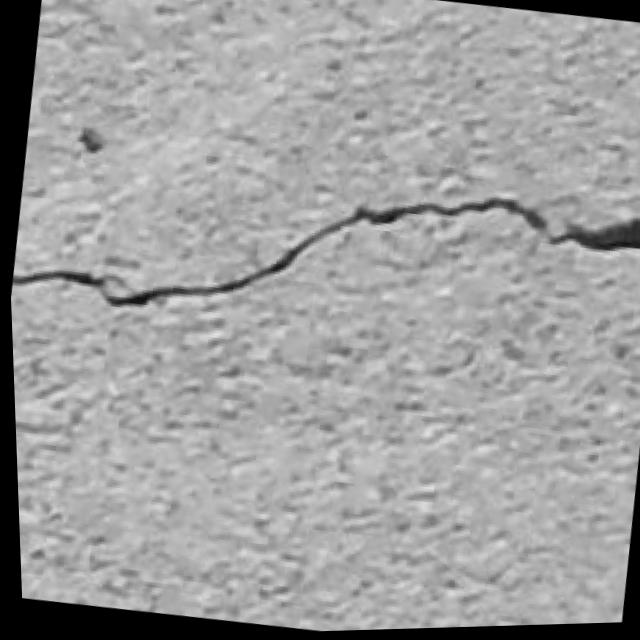Crack: (4, 110, 640, 397)
